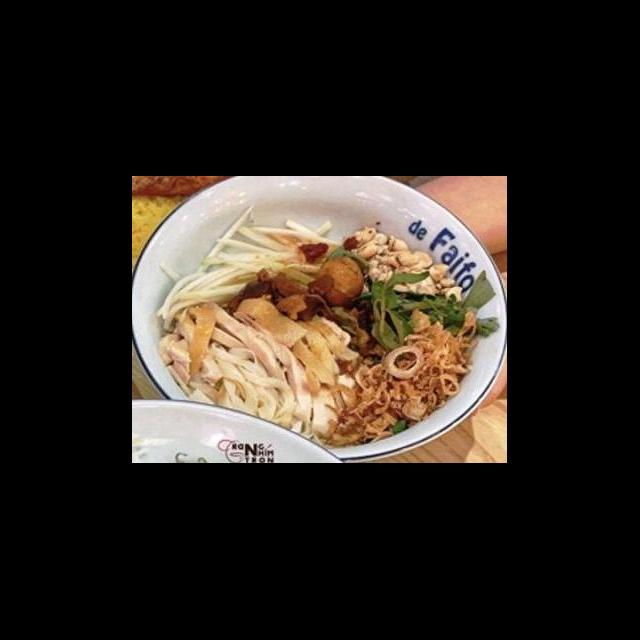rau ram: (348, 264, 504, 354)
thit ga: (156, 292, 362, 450)
